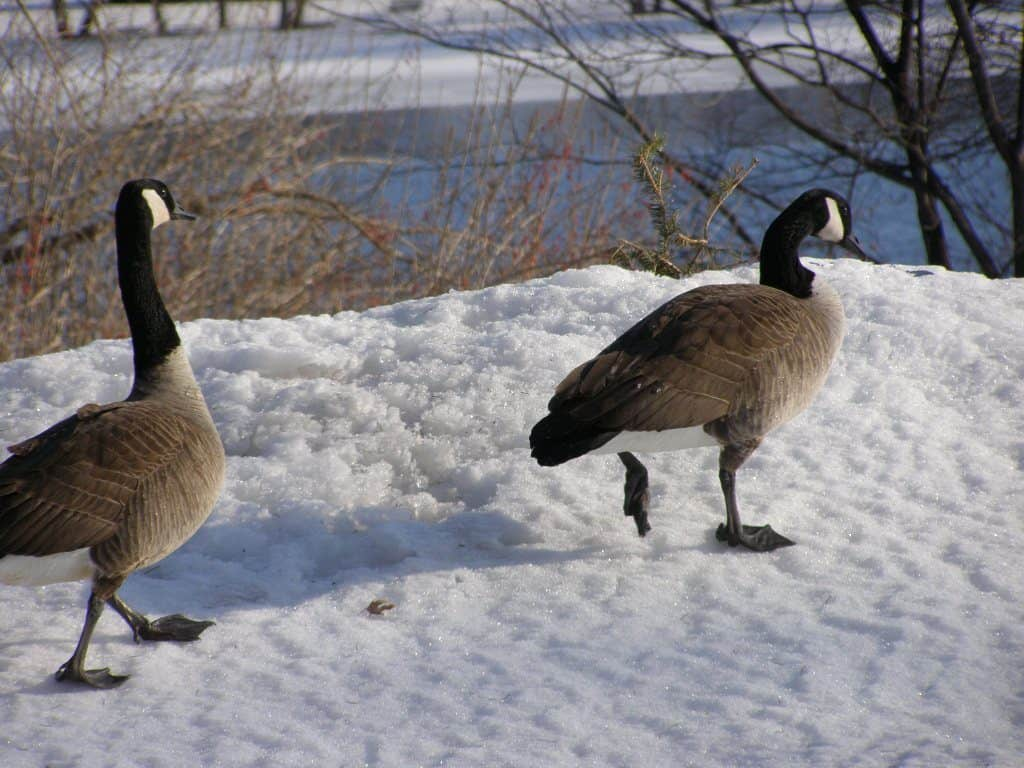goose: (516, 187, 857, 559), (1, 172, 240, 700)
